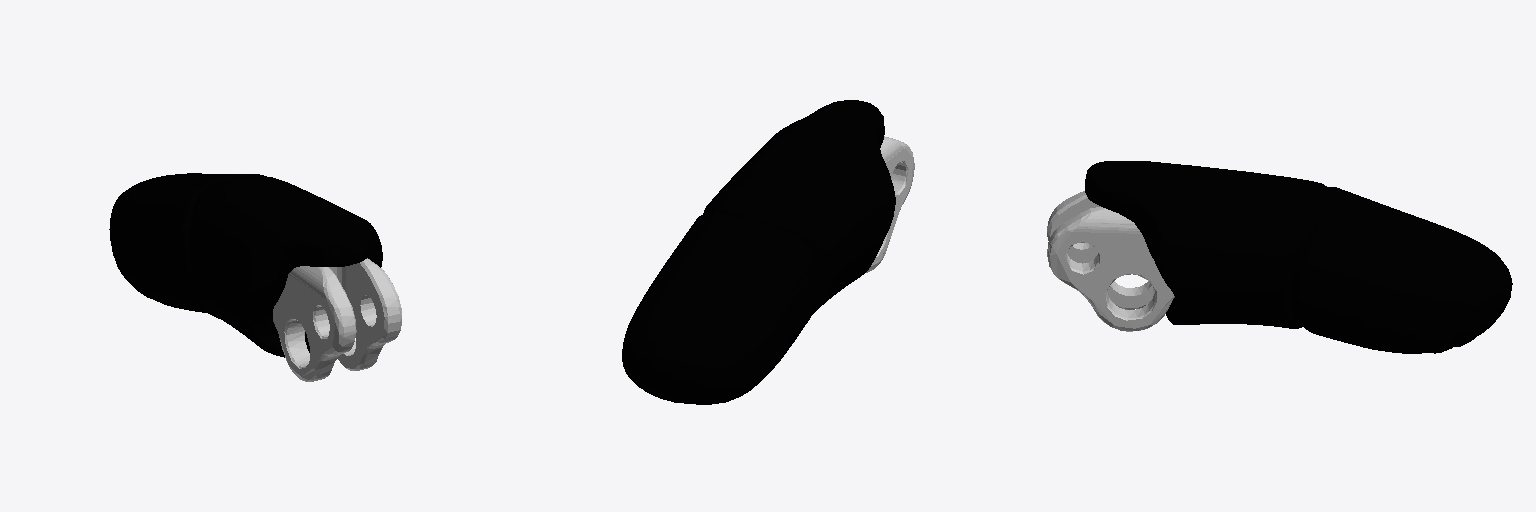
Rendered from L_pinky_distal.obj.
3 renders of one model, left to right at view 1: azimuth 30°, elevation 25°; view 2: azimuth 150°, elevation 25°; view 3: azimuth 270°, elevation 25°, orthographic.
Parts seen in each view (by area): view 1: L_pinky_distal; view 2: L_pinky_distal; view 3: L_pinky_distal.
Boxes of the visible parts, <box> form: L_pinky_distal: <box>109,173,401,381</box>; L_pinky_distal: <box>622,100,914,404</box>; L_pinky_distal: <box>1047,161,1512,353</box>.
Bounding box in the file's own units: 0.0144 × 0.0176 × 0.0429.